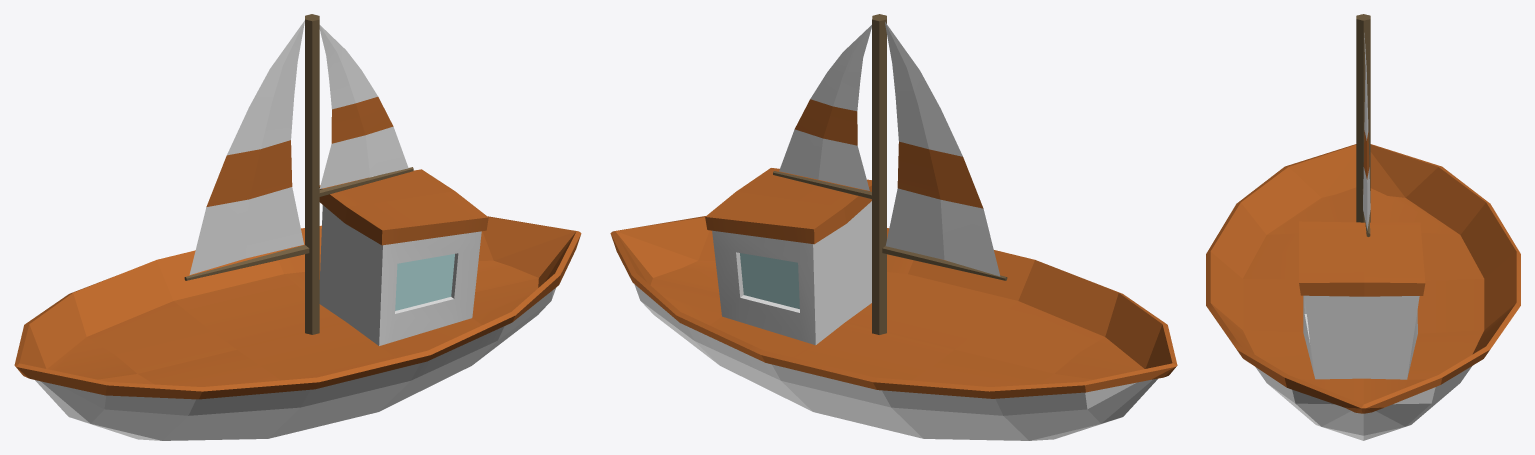
The model's file is GameJam_Ship.fbx.
3 renders of one model, left to right at view 1: azimuth 30°, elevation 25°; view 2: azimuth 150°, elevation 25°; view 3: azimuth 270°, elevation 25°, orthographic. The views are drawn at different scales.
Parts seen in each view (by area): view 1: Ship; view 2: Ship; view 3: Ship.
Boxes of the visible parts, x1=… form: Ship: x1=14, y1=14, x2=581, y2=440; Ship: x1=610, y1=14, x2=1177, y2=440; Ship: x1=1206, y1=14, x2=1520, y2=440.
Bounding box in the file's own units: 7.04 × 4.78 × 3.57.
